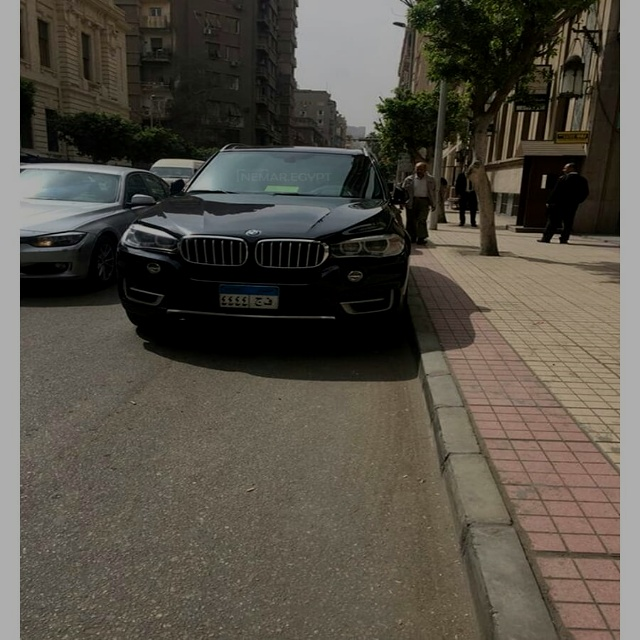License Plate: (218, 283, 281, 311)
